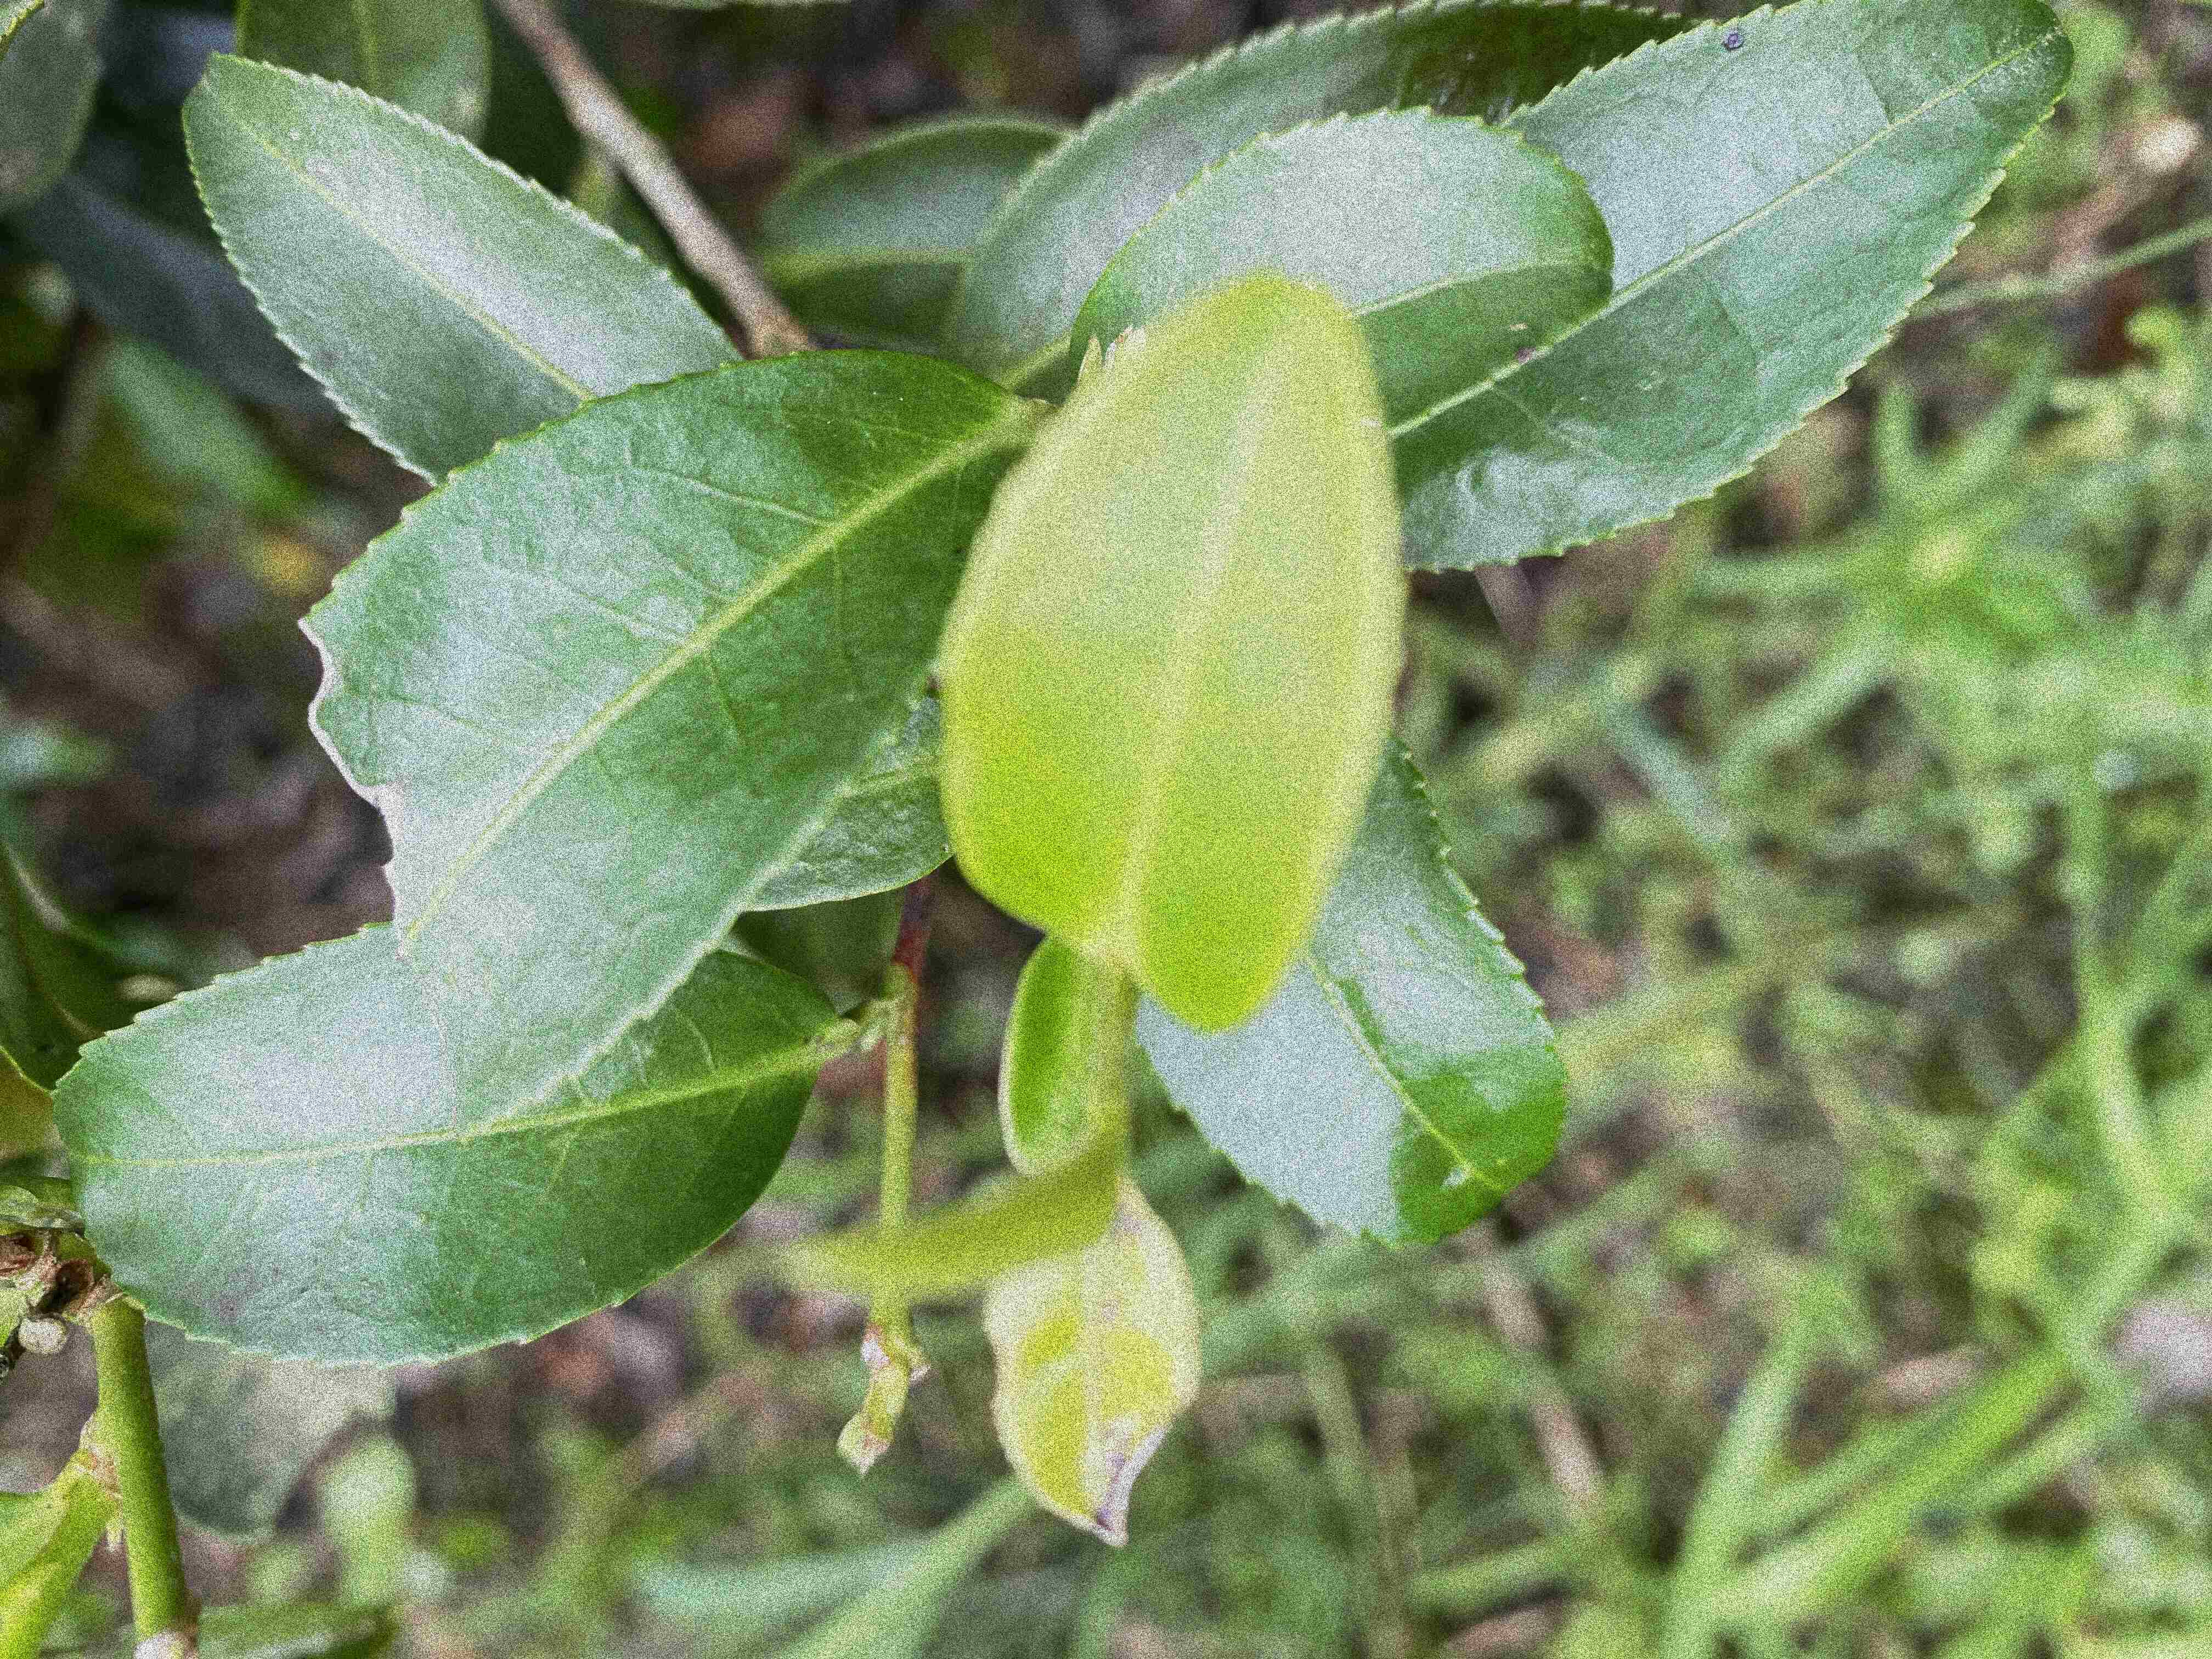chihuo_high: (293, 345, 1055, 1143)
healthy: (934, 267, 1413, 1033), (45, 925, 841, 1368), (183, 54, 751, 486)
tanju_low: (977, 1183, 1200, 1544)
